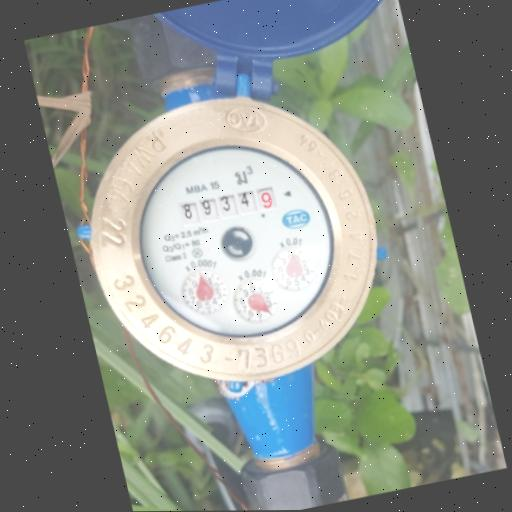3: (219, 193, 238, 217)
4: (240, 192, 257, 213)
8: (182, 201, 199, 224)
9: (200, 198, 218, 220), (258, 189, 276, 211)
border_water_meter_number: (174, 180, 283, 232)
